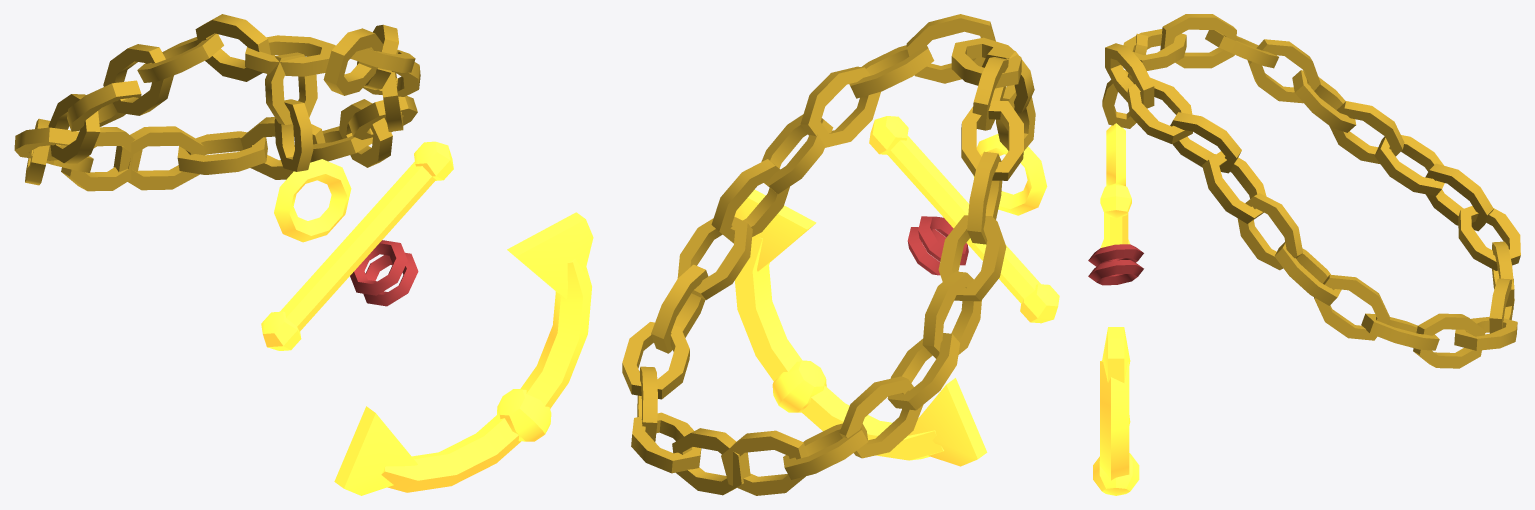
Rendered from ancre_doree.fbx.
The picture shows the model from 3 angles, left to right: view 1: azimuth 30°, elevation 25°; view 2: azimuth 150°, elevation 25°; view 3: azimuth 270°, elevation 25°; orthographic projection. The views are drawn at different scales.
Visible parts, largest first — view 1: Chaine, Anim_Ancre, Anim_Maillon_2, Anim_Maillon_1; view 2: Chaine, Anim_Ancre, Anim_Maillon_1, Anim_Maillon_2; view 3: Chaine, Anim_Ancre, Anim_Maillon_2.
Part boxes in pixels (<box>): Chaine: <box>14,14,420,191</box>; Anim_Ancre: <box>261,141,593,495</box>; Anim_Maillon_2: <box>274,99,313,171</box>; Anim_Maillon_1: <box>265,52,317,125</box>; Chaine: <box>622,14,1023,495</box>; Anim_Ancre: <box>734,116,1059,466</box>; Anim_Maillon_1: <box>982,47,1034,113</box>; Anim_Maillon_2: <box>996,85,1035,150</box>; Chaine: <box>1105,14,1520,368</box>; Anim_Ancre: <box>1088,123,1143,495</box>; Anim_Maillon_2: <box>1102,70,1136,128</box>.
Bounding box in the file's own units: 0.9532 × 1.09 × 1.07.
